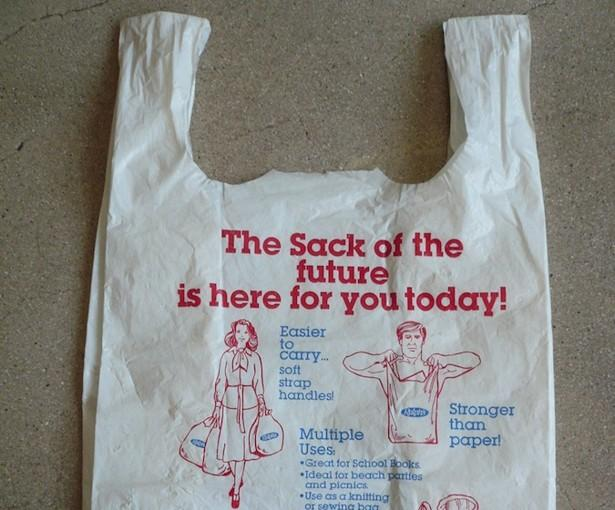LDPE: (79, 9, 555, 510)
